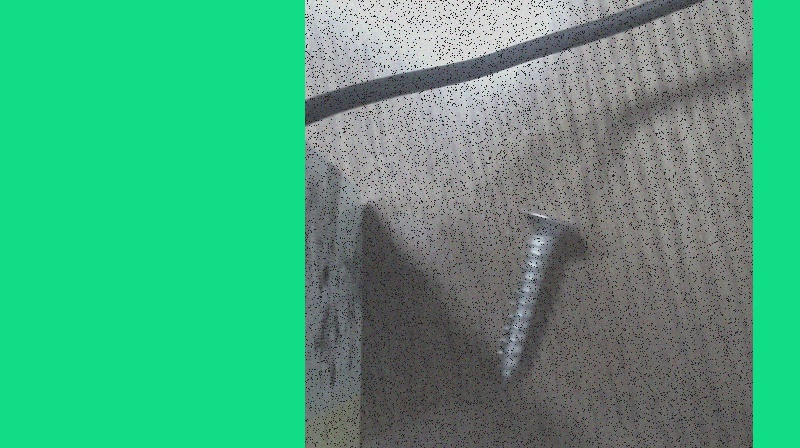S001: (489, 203, 577, 392)
